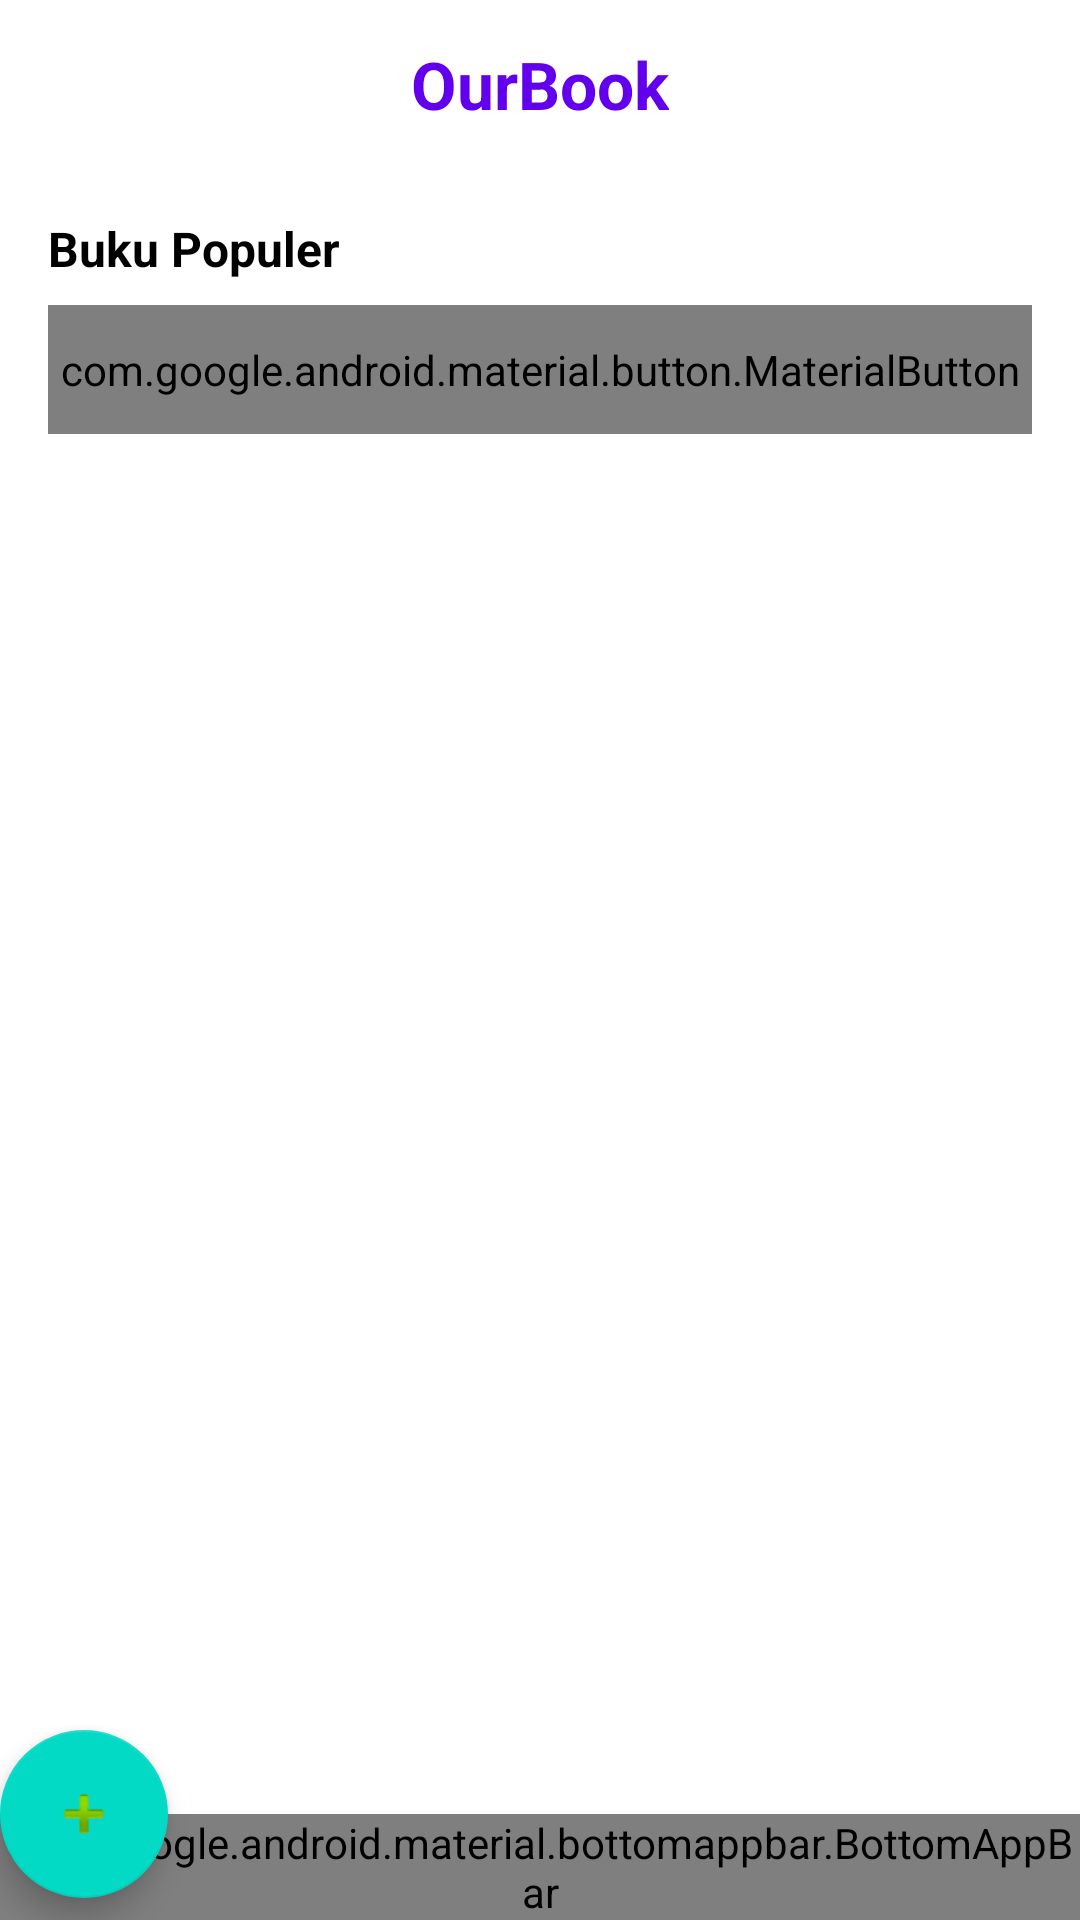

Screen size 1080w x 1920h. Icon name, then its center in pixels as point (x, y):
Tambah Buku: point (84, 1814)
